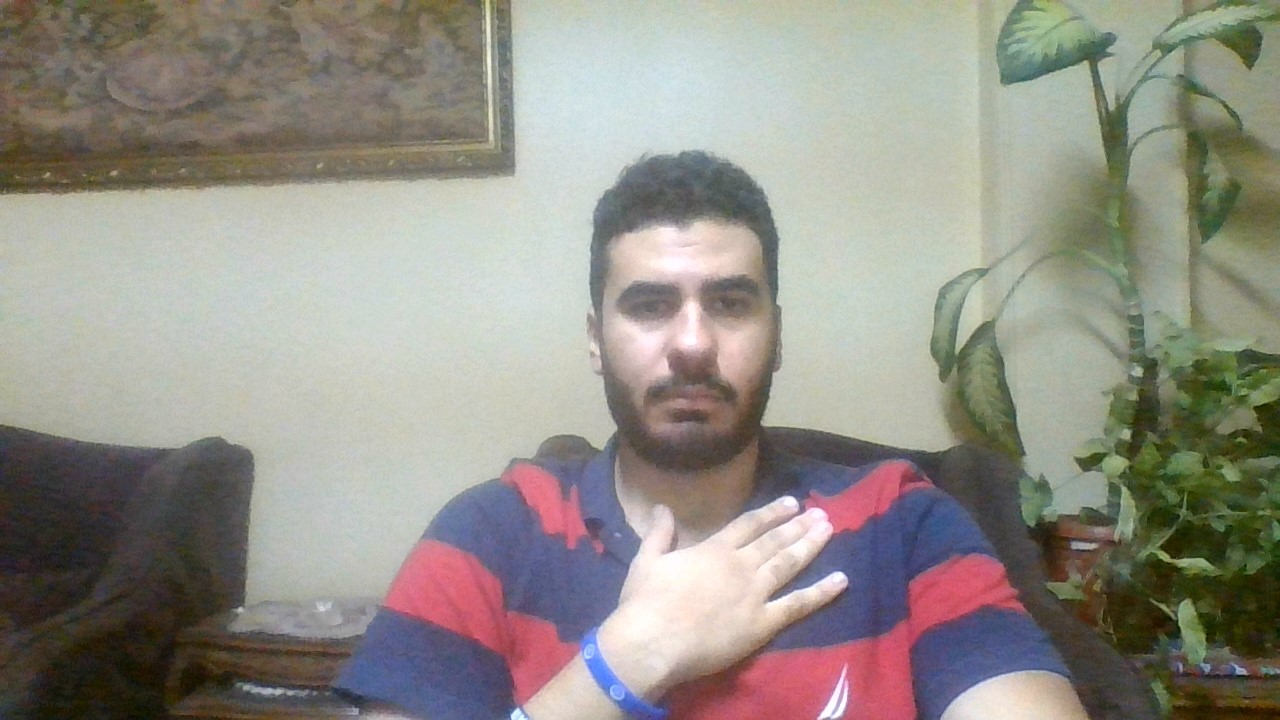please: (620, 489, 855, 664)
